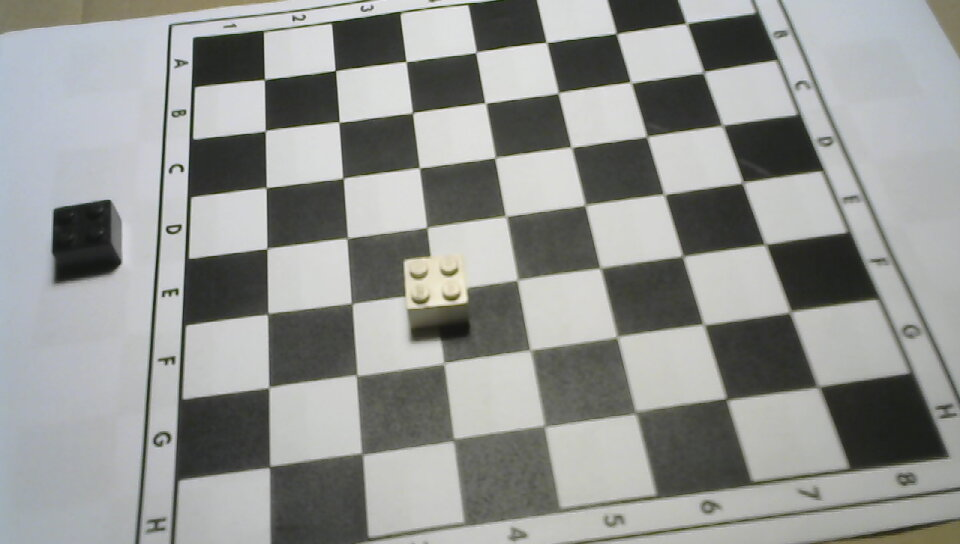wp: (385, 249, 484, 342)
